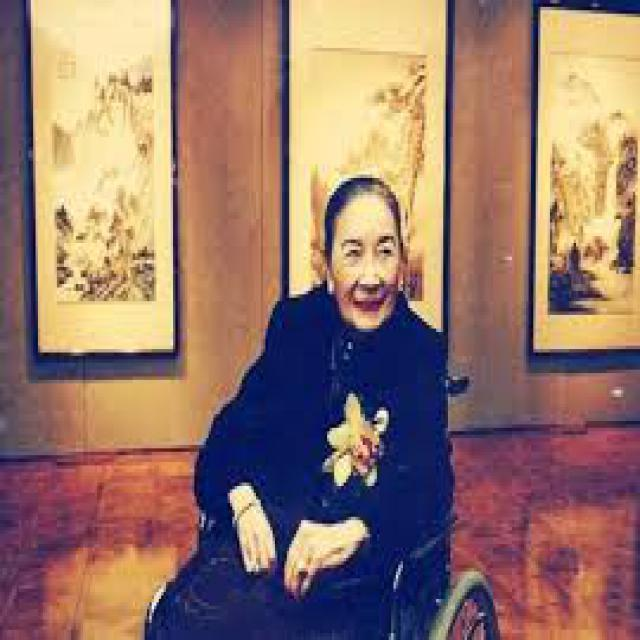wheelchairs: (142, 346, 507, 634)
